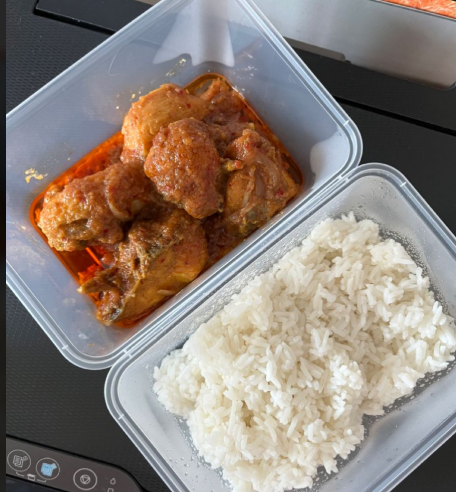daging: (120, 111, 247, 239)
makanan_berpati: (218, 306, 358, 444)
